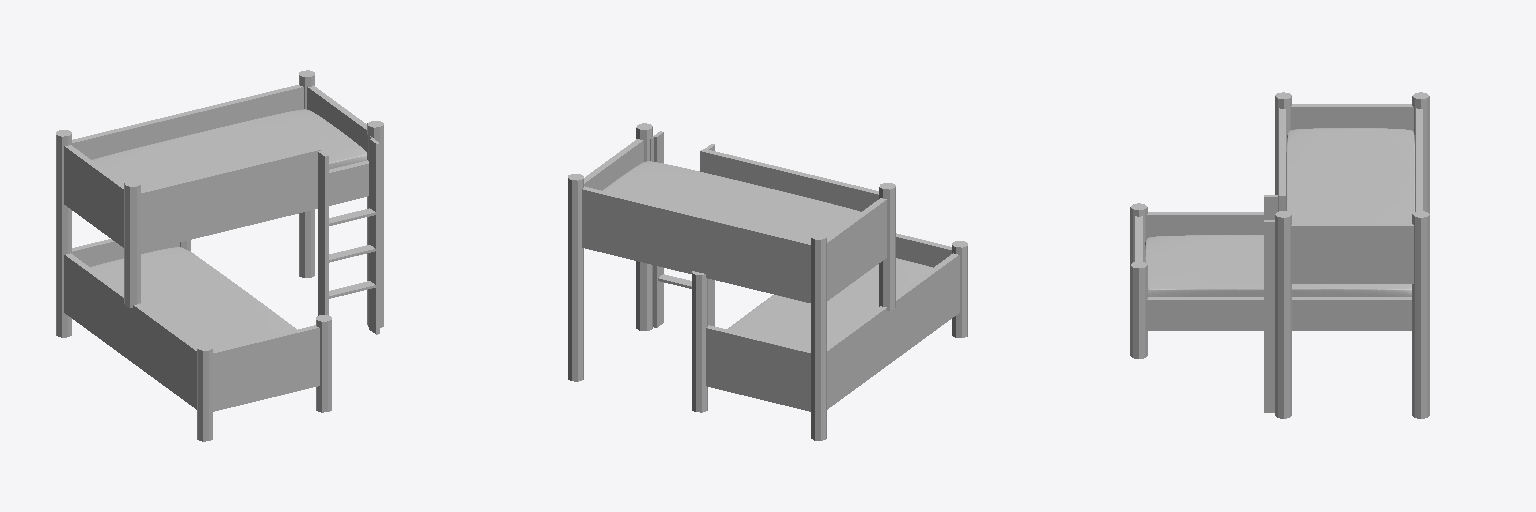
Rendered from cornerBunkBed90x190.obj.
3 renders of one model, left to right at view 1: azimuth 30°, elevation 25°; view 2: azimuth 150°, elevation 25°; view 3: azimuth 270°, elevation 25°, orthographic.
Visible parts, largest first — view 1: Bord_7, Matelas_1, Matelas, Bord_2, Bord, Bord_4, Bord_6, Pied, Pied_1, Echelle_1, Echelle, Bord_5 (+5 smaller); view 2: Bord_4, Matelas_1, Bord_2, Bord_1, Matelas, Bord_7, Bord_6, Pied, Pied_3, Pied_6, Pied_1, Pied_2 (+4 smaller); view 3: Matelas_1, Matelas, Bord_3, Bord_5, Pied_3, Pied_2, Bord_6, Bord_2, Echelle_1, Pied_5, Pied, Pied_1 (+3 smaller).
Part boxes in pixels (bbox=[...]): Bord_7: bbox=[141, 135, 372, 251]; Matelas_1: bbox=[92, 109, 366, 189]; Matelas: bbox=[90, 247, 296, 349]; Bord_2: bbox=[64, 253, 196, 409]; Bord: bbox=[213, 325, 319, 411]; Bord_4: bbox=[72, 85, 303, 159]; Bord_6: bbox=[64, 145, 123, 247]; Pied: bbox=[56, 130, 71, 337]; Pied_1: bbox=[124, 180, 140, 307]; Echelle_1: bbox=[369, 138, 379, 334]; Echelle: bbox=[318, 151, 328, 315]; Bord_5: bbox=[307, 85, 366, 151]; Bord_4: bbox=[582, 186, 810, 302]; Matelas_1: bbox=[602, 161, 860, 241]; Bord_2: bbox=[827, 253, 959, 409]; Bord_1: bbox=[706, 325, 810, 411]; Matelas: bbox=[727, 258, 932, 349]; Bord_7: bbox=[650, 136, 878, 211]; Bord_6: bbox=[827, 198, 886, 300]; Pied: bbox=[811, 233, 826, 440]; Pied_3: bbox=[568, 174, 583, 381]; Pied_6: bbox=[692, 271, 707, 412]; Pied_1: bbox=[879, 183, 895, 310]; Pied_2: bbox=[636, 123, 652, 330]; Matelas_1: bbox=[1286, 128, 1414, 222]; Matelas: bbox=[1145, 235, 1411, 296]; Bord_3: bbox=[1146, 297, 1411, 330]; Bord_5: bbox=[1291, 223, 1413, 283]; Pied_3: bbox=[1412, 211, 1429, 418]; Pied_2: bbox=[1275, 211, 1291, 418]; Bord_6: bbox=[1291, 104, 1413, 131]; Bord_2: bbox=[1146, 212, 1263, 238]; Echelle_1: bbox=[1264, 220, 1274, 412]; Pied_5: bbox=[1130, 261, 1147, 358]; Pied: bbox=[1412, 92, 1429, 213]; Pied_1: bbox=[1275, 92, 1291, 211].
Bounding box in the file's own units: 2.08 × 1.55 × 2.09.